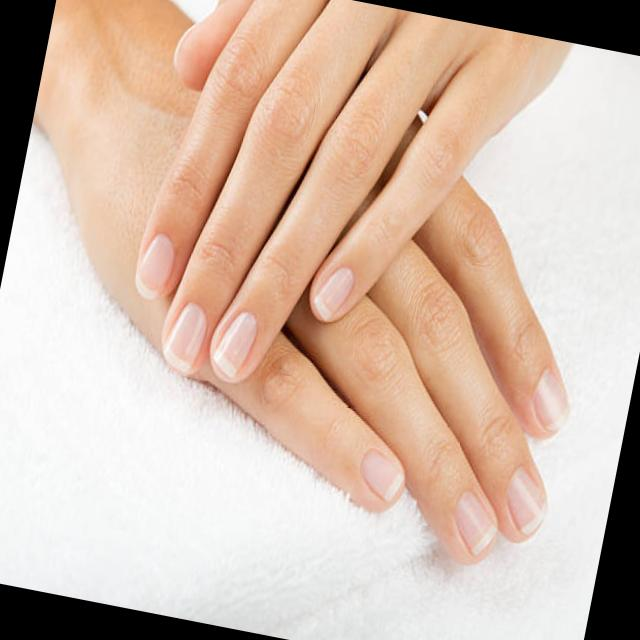Nail: (163, 301, 207, 374), (212, 311, 258, 379), (506, 467, 547, 536), (456, 491, 498, 555), (135, 234, 175, 299), (312, 266, 355, 321), (361, 451, 405, 504), (533, 370, 569, 434)
